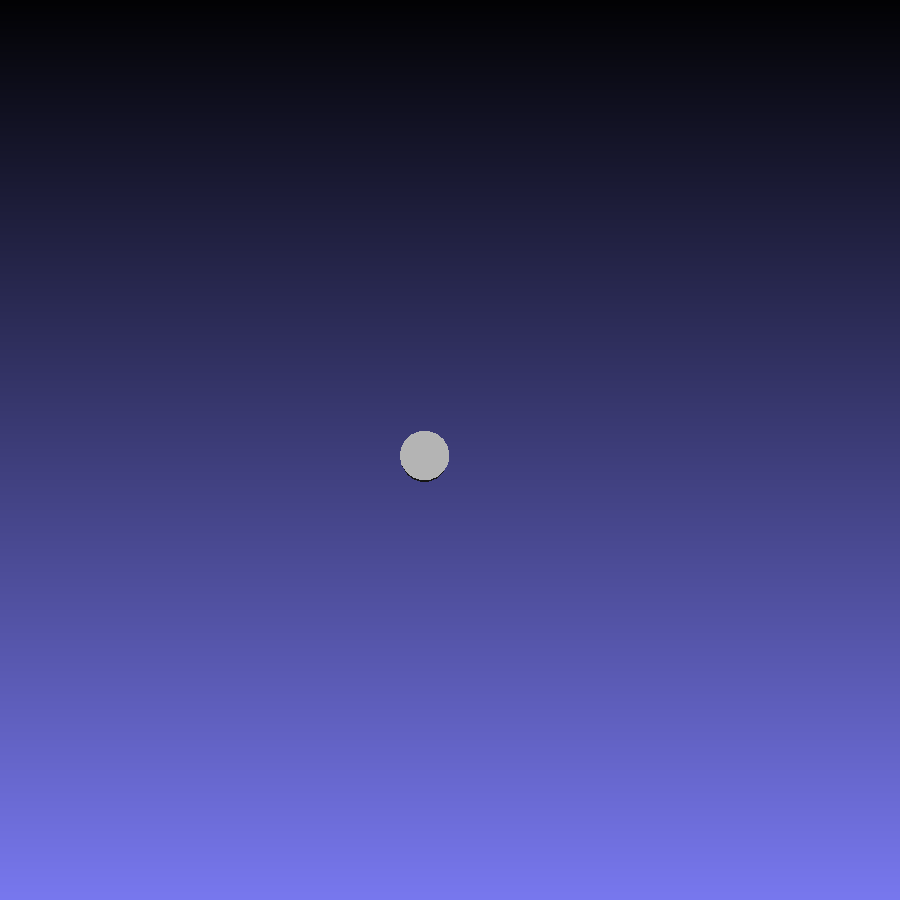cargo_g: (399, 428, 452, 485)
